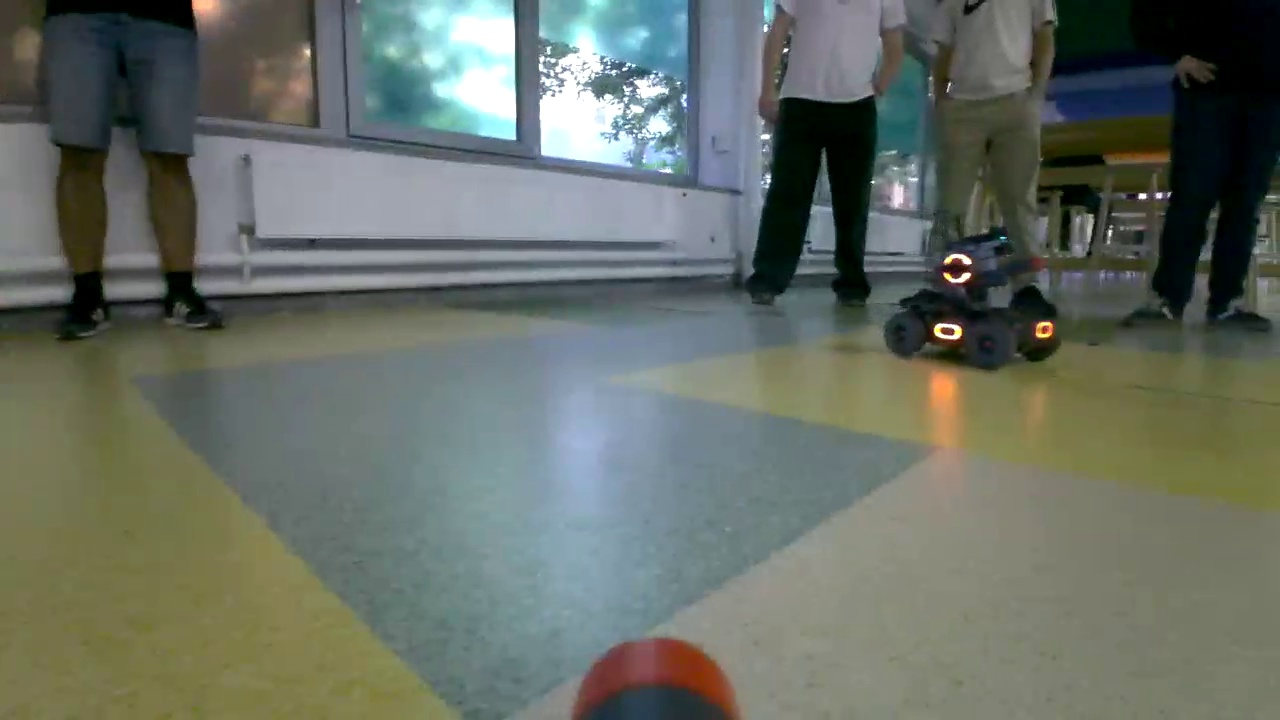robot: (883, 226, 1061, 369)
